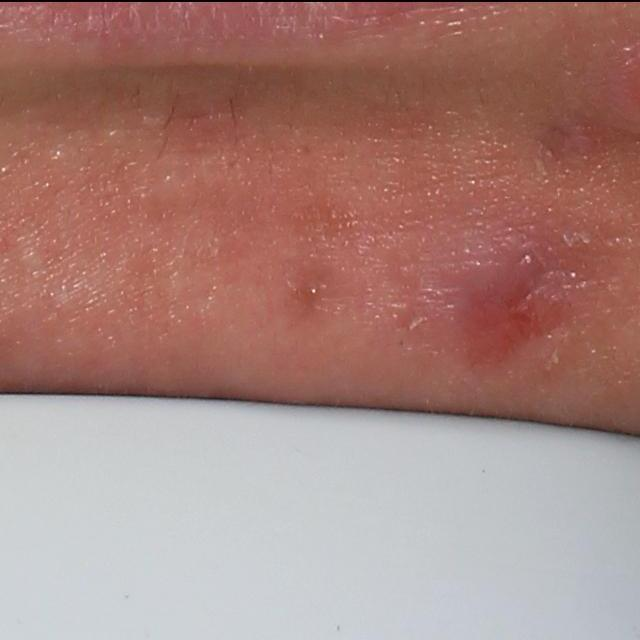nodule: (414, 243, 541, 355)
